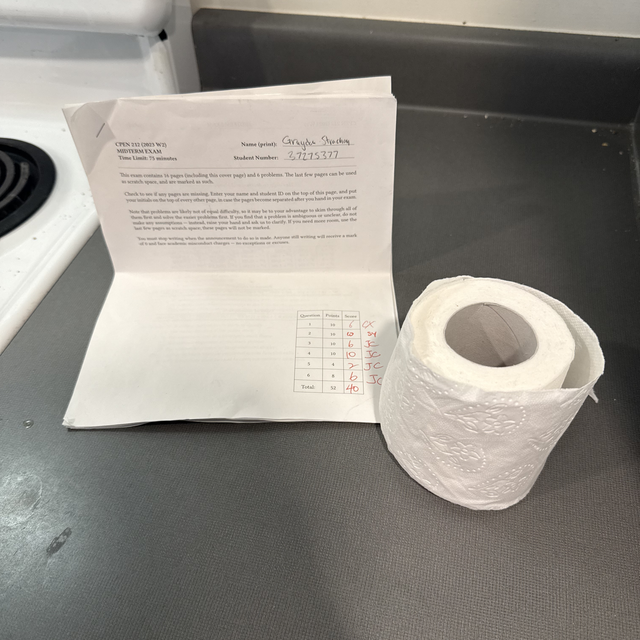Paper: (63, 79, 410, 438)
Toilet Paper: (368, 251, 607, 519)
